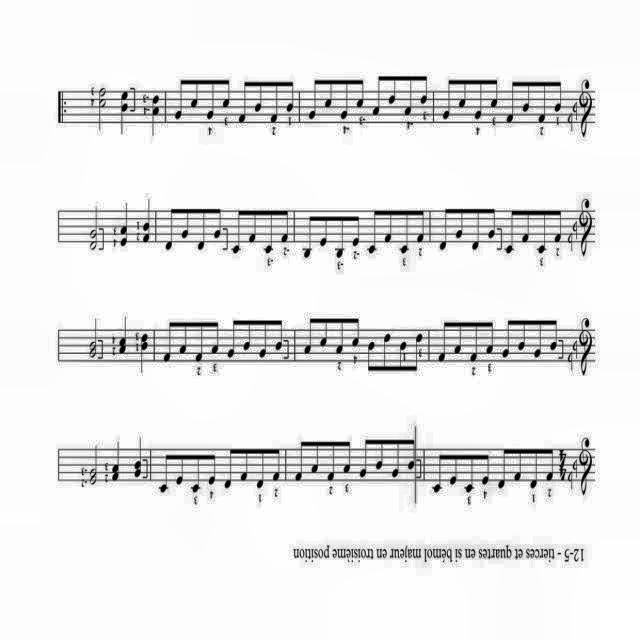Bemol: (572, 459, 578, 479), (572, 340, 578, 360), (572, 220, 578, 240), (568, 352, 572, 373), (568, 471, 572, 491), (568, 233, 572, 253), (568, 112, 572, 132), (574, 102, 578, 122)
Eighth-note: (230, 211, 242, 257), (432, 454, 443, 502), (159, 454, 171, 498), (536, 212, 548, 256), (262, 210, 274, 254), (224, 451, 236, 494), (162, 321, 174, 364), (190, 456, 202, 496), (302, 315, 314, 355), (506, 210, 516, 258), (498, 446, 508, 492), (440, 209, 450, 255), (367, 209, 377, 255), (399, 212, 409, 256), (303, 216, 313, 260), (196, 208, 206, 252), (530, 449, 540, 491), (465, 453, 475, 495), (327, 441, 337, 483), (257, 449, 267, 491), (194, 321, 204, 363), (165, 209, 175, 251), (237, 81, 247, 123), (269, 82, 279, 124), (227, 317, 237, 358), (505, 81, 515, 122), (512, 450, 524, 484), (174, 453, 186, 487), (359, 438, 369, 478), (258, 320, 268, 360), (438, 322, 448, 362), (392, 438, 401, 480), (548, 321, 560, 352), (469, 322, 478, 362), (521, 210, 531, 246), (339, 80, 348, 120), (472, 208, 480, 252), (413, 333, 422, 371), (545, 448, 555, 482), (383, 212, 393, 246), (296, 441, 304, 483), (336, 216, 344, 258), (206, 79, 214, 121), (309, 78, 317, 120), (442, 79, 450, 121), (538, 82, 546, 124), (239, 450, 249, 482), (179, 322, 189, 354), (210, 323, 220, 355), (242, 320, 252, 352), (336, 316, 344, 356), (453, 322, 463, 354), (502, 320, 510, 360), (534, 319, 542, 359), (455, 209, 465, 241), (416, 212, 426, 244), (174, 80, 182, 120), (372, 76, 380, 116), (474, 80, 482, 120), (404, 76, 412, 115), (322, 80, 333, 108), (349, 317, 359, 347), (318, 218, 328, 248), (180, 210, 190, 240), (553, 82, 563, 112), (382, 334, 390, 371), (482, 454, 491, 486), (449, 454, 458, 486), (419, 76, 429, 104), (376, 438, 384, 472), (343, 439, 351, 473), (272, 448, 280, 482), (398, 340, 406, 374), (406, 439, 414, 471), (310, 442, 318, 474), (208, 455, 216, 487), (274, 320, 282, 352), (320, 316, 328, 348), (485, 322, 493, 354), (554, 210, 562, 242), (488, 208, 496, 240), (352, 216, 360, 248), (280, 212, 288, 244), (248, 212, 256, 244), (212, 208, 220, 240), (367, 341, 375, 372), (518, 321, 526, 352), (254, 81, 262, 112), (286, 81, 294, 112), (190, 80, 198, 110), (522, 83, 530, 113), (458, 81, 467, 107), (222, 80, 230, 108), (388, 76, 396, 104), (490, 80, 498, 108), (356, 81, 364, 107)
Half-note: (96, 88, 108, 128), (89, 208, 98, 252), (90, 445, 98, 487), (88, 319, 96, 359)
Quarter-note: (118, 88, 130, 136), (150, 93, 162, 137), (119, 202, 129, 250), (111, 441, 121, 484), (118, 316, 128, 356), (142, 199, 150, 245), (140, 333, 148, 375)
Treble-clef: (578, 78, 592, 142), (579, 197, 593, 260), (578, 437, 592, 497), (580, 316, 592, 376)
